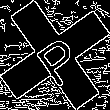P_NW: (26, 24, 84, 86)
